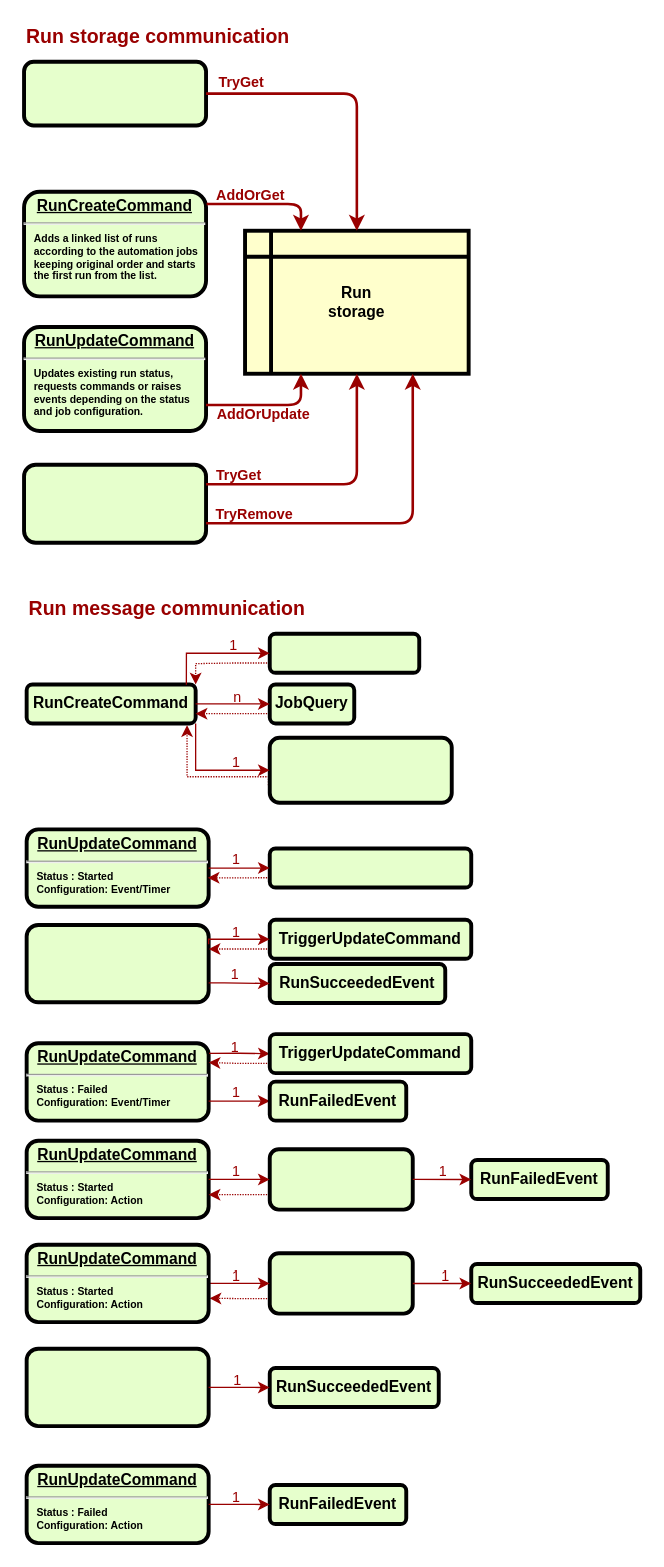
Some shapes in this 664 by 1567 pixel diagram are drawn without their labels. Each missing label, with the centre of its shape:
"Action Result: Failed" goes at [340,1179].
"Action Result: Succedded" goes at [340,1283].
"AutomationQuery" goes at [344,652].
"RunDeleteCommand Deletes run by ID and returns nothing." goes at [114,503].
"RunQuery Queries and returns a run by ID." goes at [114,93].
"RunUpdateCommand Status : Started" goes at [360,769].
"RunUpdateCommand Status : Succeeded Configuration: Action" goes at [117,1386].
"RunUpdateCommand Status : Succeeded Configuration: Event/Timer" goes at [117,963].
"TriggerCreateCommand" goes at [370,867].
